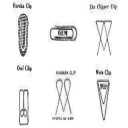Metal: (86, 76, 116, 121), (85, 16, 117, 58), (10, 87, 45, 125), (50, 77, 84, 115), (10, 12, 34, 59), (44, 22, 80, 50)
